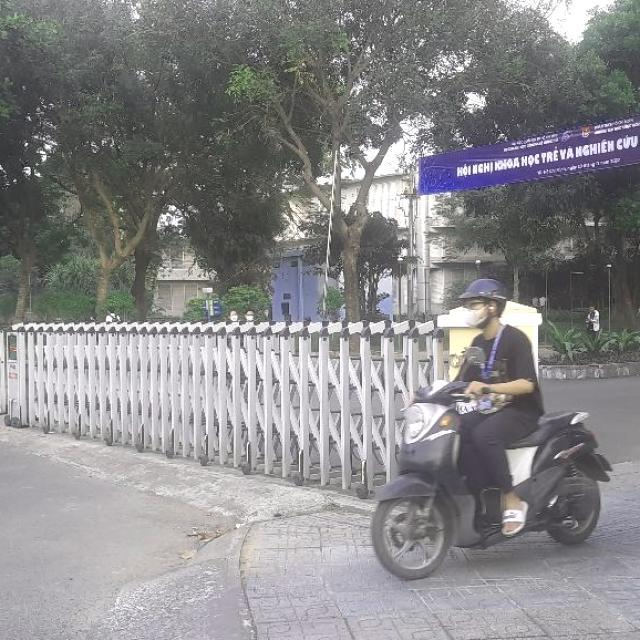Helmet: (460, 278, 508, 330)
